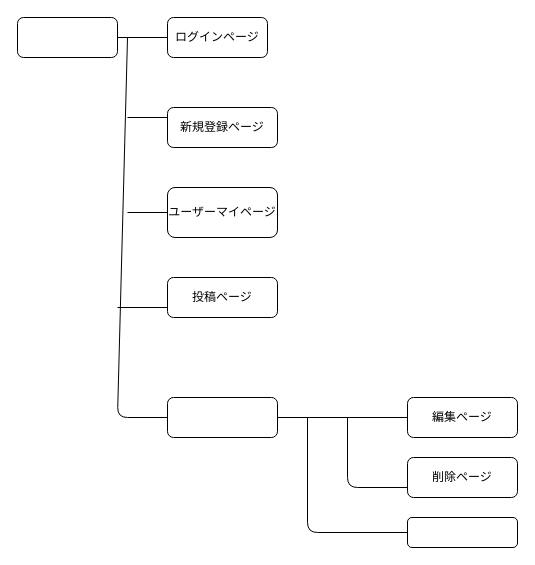
This 535x565 diagram has some shape labels left out. The shapes that lost their labels are listed below. From the top down, each one's centre as x and y in pixels, then its label:
At pixel 67 37: "一覧ページ".
At pixel 222 417: "詳細ページ".
At pixel 462 532: "集計ページ".
